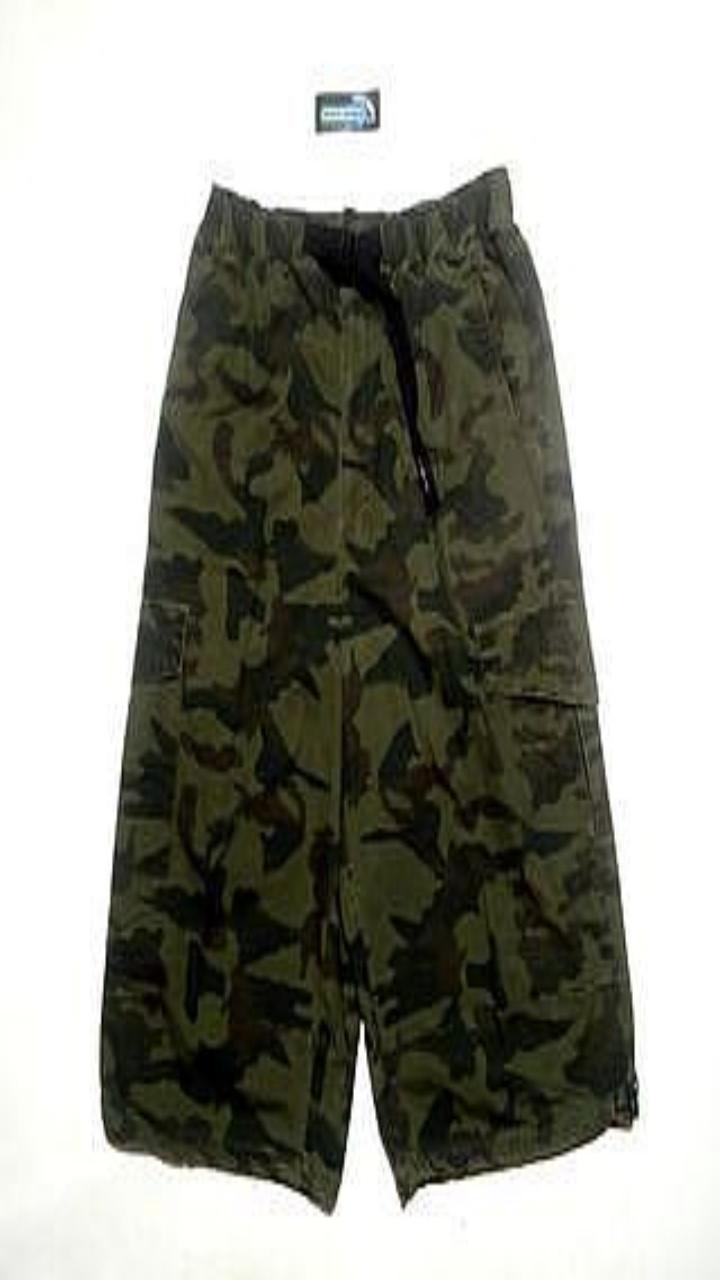Shorts: (101, 166, 637, 1212)
